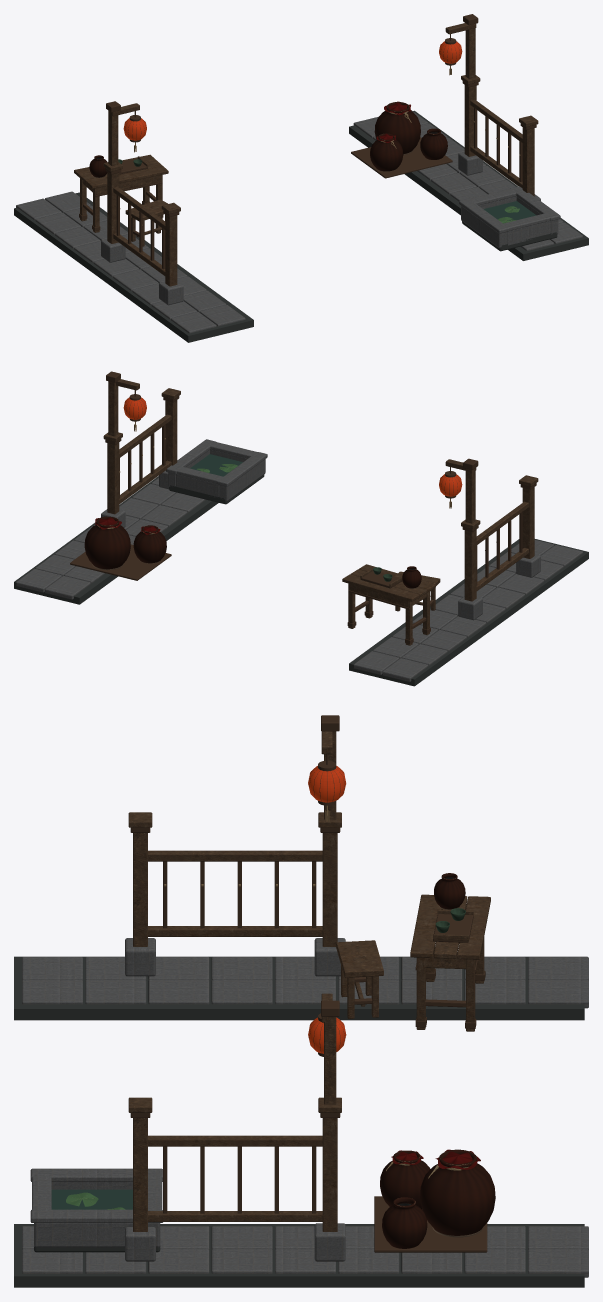
Rendered from courtyard_details.glb.
3 renders of one model, top to bottom at view 1: azimuth 30°, elevation 25°; view 2: azimuth 150°, elevation 25°; view 3: azimuth 270°, elevation 25°, orthographic. The views are drawn at different scales.
Parts seen in each view (by area): view 1: SidePaving_Geometry, SideRailings_Geometry, StoneLotusBasin_Geometry, WineJars_Geometry, TeaTable_Geometry, Stool_Geometry; view 2: SidePaving_Geometry, SideRailings_Geometry, StoneLotusBasin_Geometry, WineJars_Geometry, TeaTable_Geometry; view 3: SidePaving_Geometry, SideRailings_Geometry, WineJars_Geometry, StoneLotusBasin_Geometry, TeaTable_Geometry, Stool_Geometry.
Part boxes in pixels (x1=…): SidePaving_Geometry: x1=14, y1=110, x2=588, y2=342; SideRailings_Geometry: x1=101, y1=14, x2=540, y2=305; StoneLotusBasin_Geometry: x1=459, y1=186, x2=560, y2=251; WineJars_Geometry: x1=351, y1=101, x2=452, y2=178; TeaTable_Geometry: x1=74, y1=154, x2=168, y2=232; Stool_Geometry: x1=125, y1=199, x2=167, y2=246; SidePaving_Geometry: x1=14, y1=476, x2=588, y2=686; SideRailings_Geometry: x1=101, y1=371, x2=540, y2=620; StoneLotusBasin_Geometry: x1=166, y1=439, x2=267, y2=504; WineJars_Geometry: x1=70, y1=516, x2=171, y2=580; TeaTable_Geometry: x1=342, y1=564, x2=435, y2=645; SidePaving_Geometry: x1=14, y1=956, x2=588, y2=1287; SideRailings_Geometry: x1=125, y1=715, x2=346, y2=1261; WineJars_Geometry: x1=374, y1=1149, x2=495, y2=1252; StoneLotusBasin_Geometry: x1=30, y1=1168, x2=162, y2=1252; TeaTable_Geometry: x1=410, y1=873, x2=490, y2=1031; Stool_Geometry: x1=336, y1=940, x2=383, y2=1018.
Size of the model in its own units: 6.1 by 2.37 by 4.64.
Materials: 15 (6 with a texture image).
